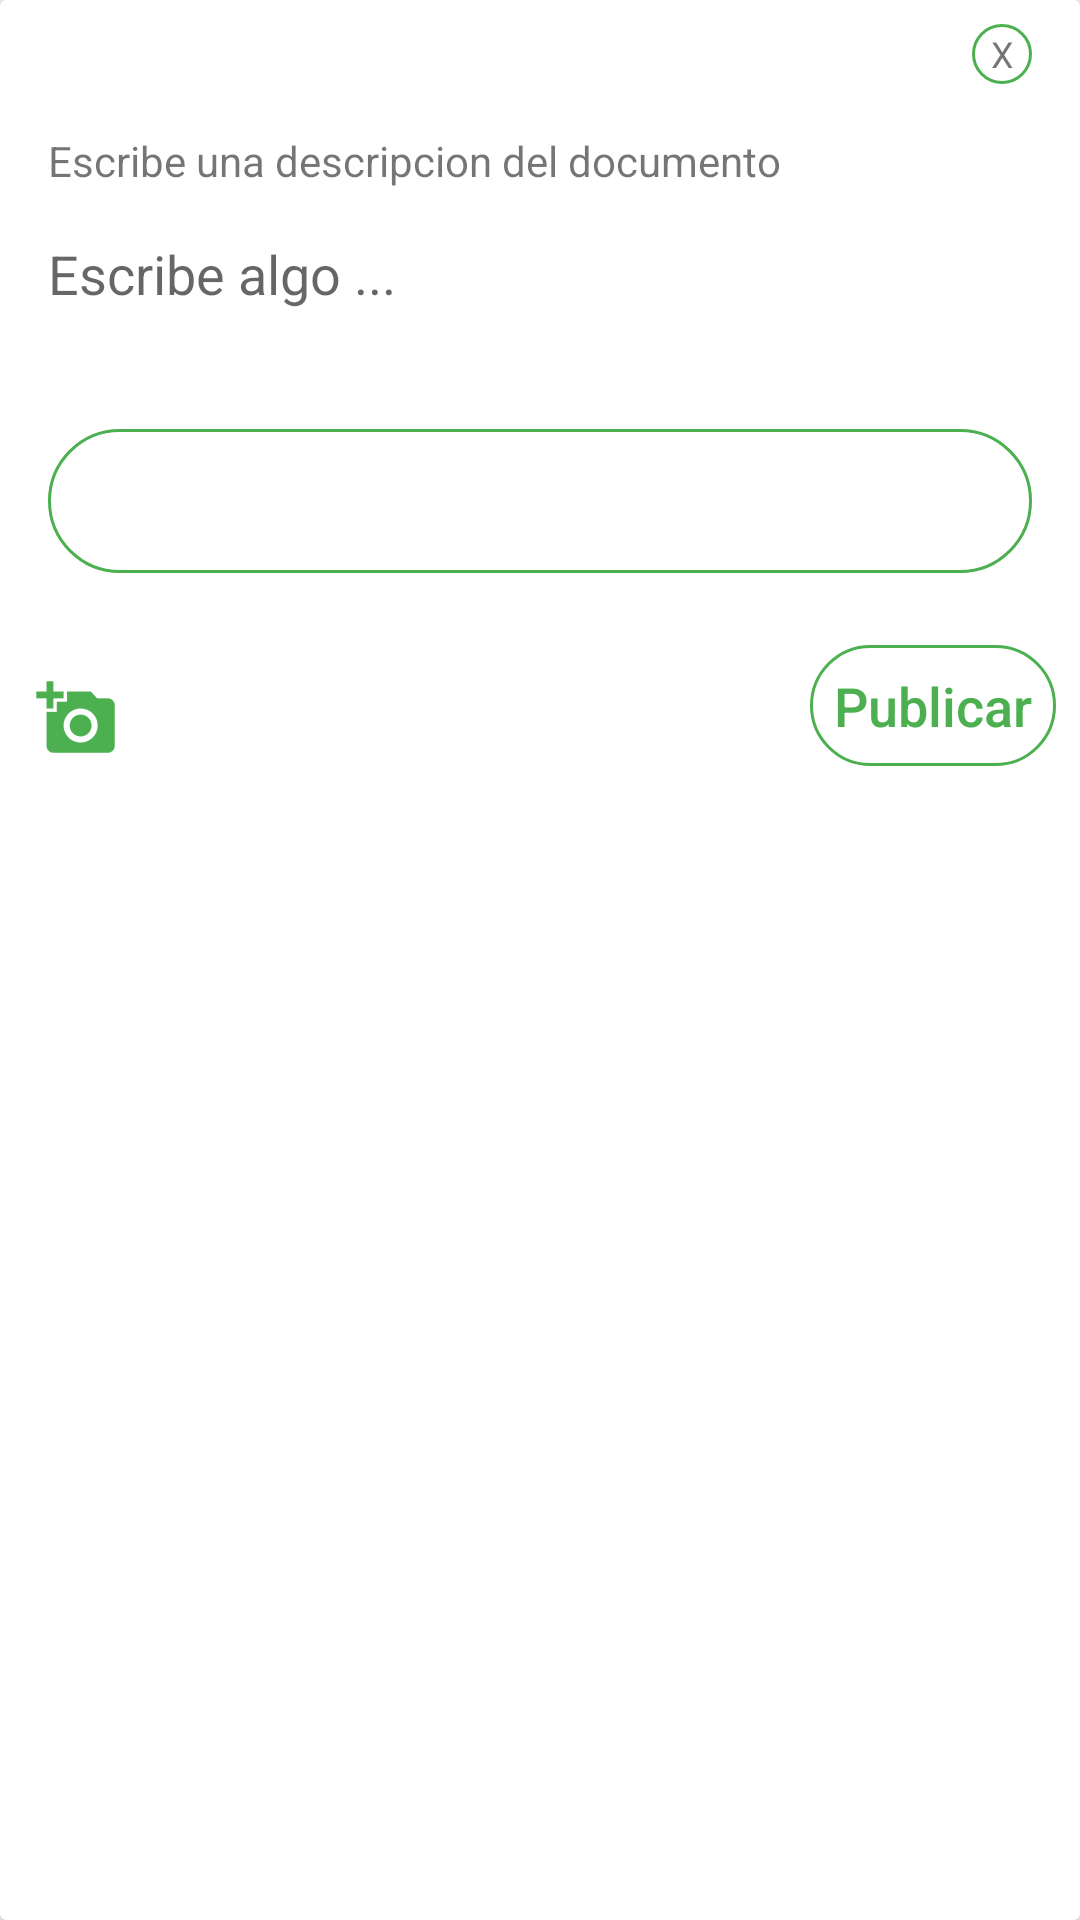

Icons on this 1080x1920 Android screen, each with its box as {"x1": x1, "y1": y1, "x2": x2, "y2": y2}:
camera: {"x1": 36, "y1": 681, "x2": 115, "y2": 753}
